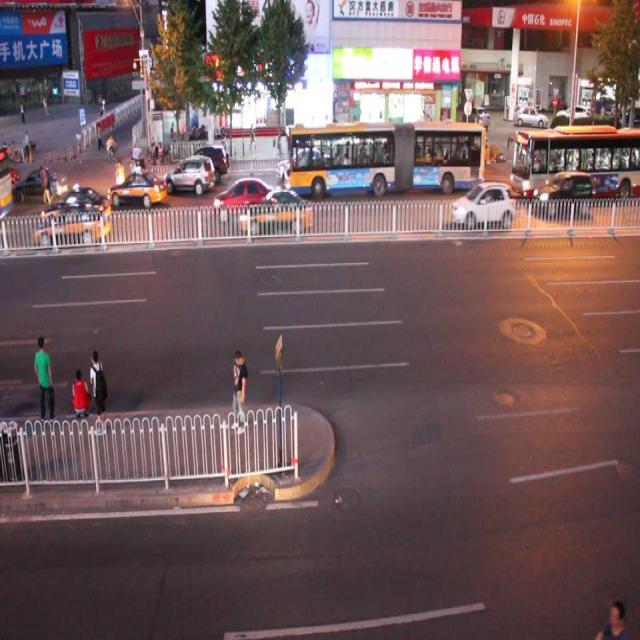car: (34, 202, 110, 245), (40, 186, 111, 228), (239, 189, 310, 231), (452, 181, 513, 226), (533, 171, 589, 218), (214, 176, 274, 216), (108, 170, 167, 207), (162, 155, 215, 195), (15, 166, 67, 200), (278, 146, 328, 181), (182, 145, 228, 182), (0, 164, 18, 196)
van: (281, 121, 484, 198), (509, 126, 640, 200), (1, 147, 16, 222)
